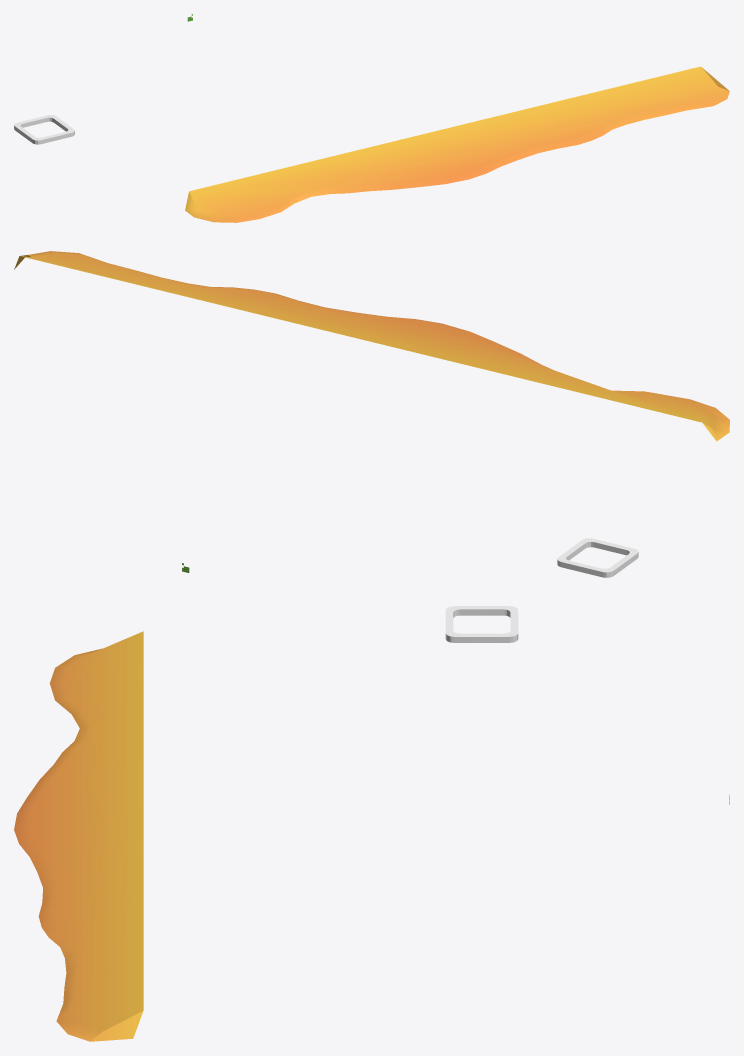
File: level layout.fbx
The picture shows the model from 3 angles, top to bottom: view 1: azimuth 30°, elevation 25°; view 2: azimuth 150°, elevation 25°; view 3: azimuth 270°, elevation 25°; orthographic projection. The views are drawn at different scales.
Parts seen in each view (by area): view 1: polySurface7, pCube1; view 2: polySurface7, pCube1; view 3: polySurface7, pCube1.
Boxes of the visible parts, x1=… form: polySurface7: x1=185, y1=66, x2=729, y2=222; pCube1: x1=14, y1=115, x2=74, y2=144; polySurface7: x1=14, y1=251, x2=729, y2=441; pCube1: x1=557, y1=538, x2=638, y2=577; polySurface7: x1=14, y1=631, x2=143, y2=1041; pCube1: x1=445, y1=606, x2=518, y2=642.
Bounding box in the file's own units: 1723 × 52.41 × 1218.
